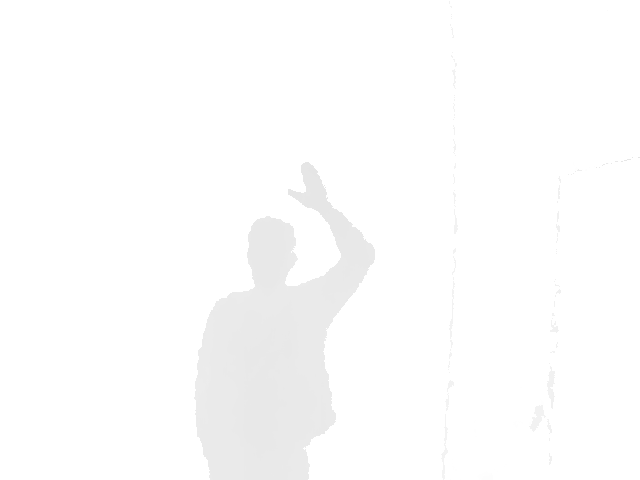hand: (285, 161, 339, 208)
head: (246, 216, 298, 290)
person: (192, 161, 378, 479)
